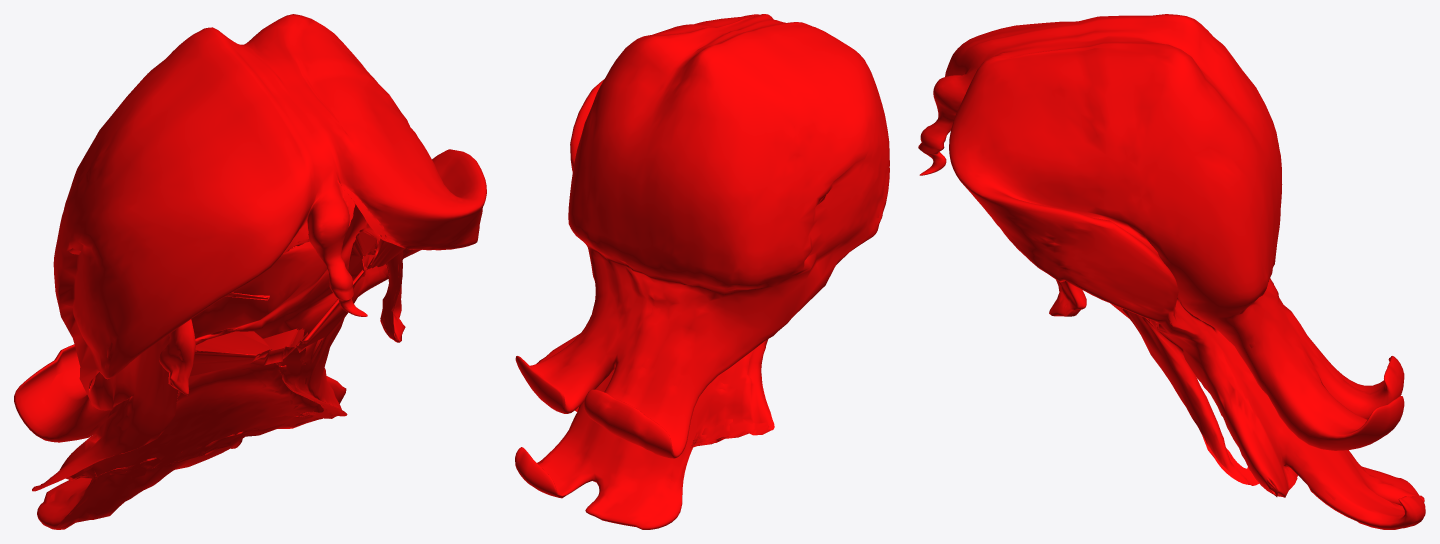
Rendered from culturalibre_hair_12_M.glb.
3 renders of one model, left to right at view 1: azimuth 30°, elevation 25°; view 2: azimuth 150°, elevation 25°; view 3: azimuth 270°, elevation 25°, orthographic. The views are drawn at different scales.
Bounding box in the file's own units: 0.2814 × 0.3979 × 0.3709.
Materials: 1 (1 with a texture image).
